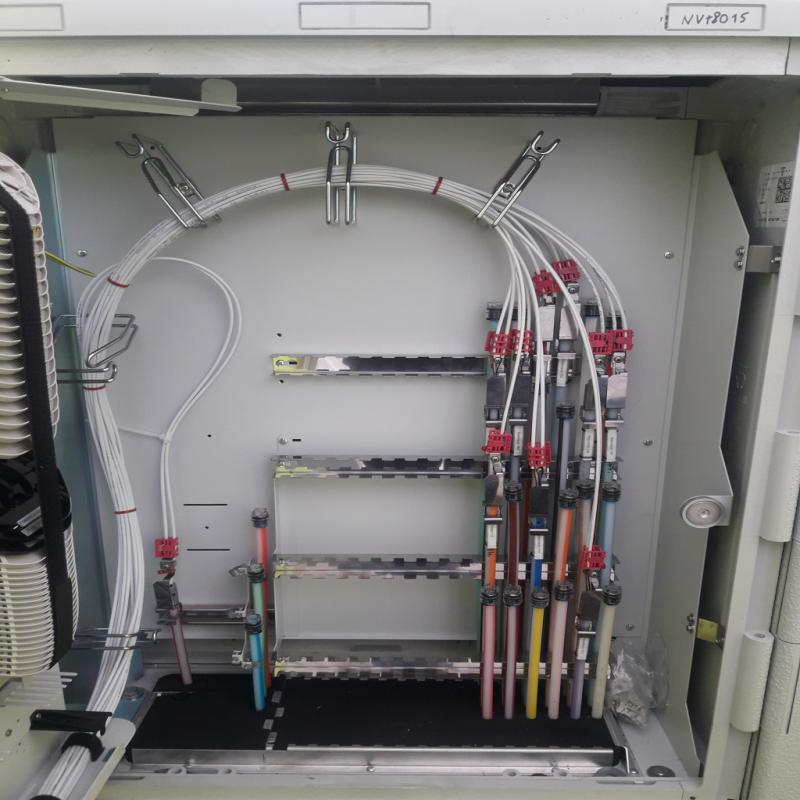NT-Gehause: (0, 0, 800, 800)
Spleiskassetten: (0, 143, 85, 697)
